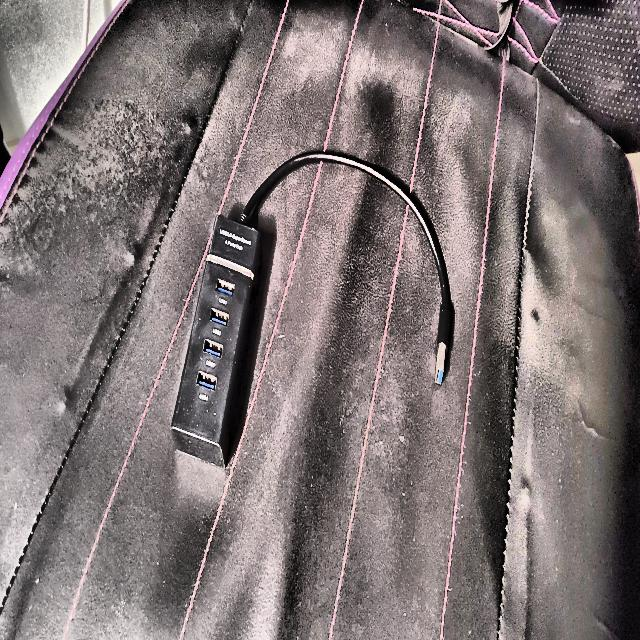HUB: (172, 151, 453, 466)
